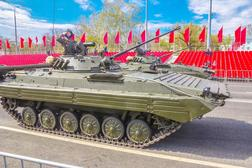bmp: (1, 47, 229, 145)
